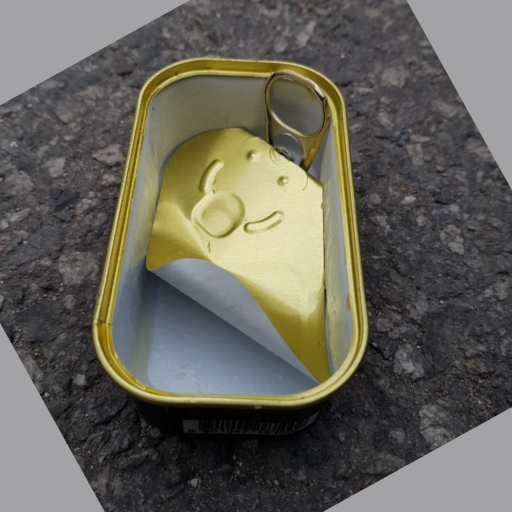Metal_2: (92, 55, 370, 431)
